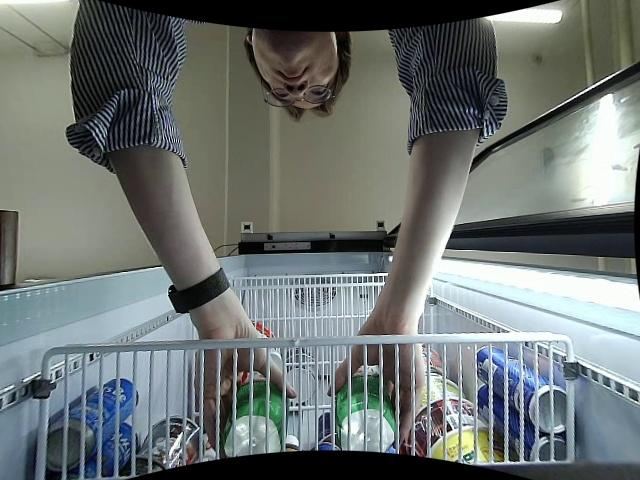00_hand: (193, 331, 296, 450), (328, 321, 426, 444)
18_trevi: (217, 352, 289, 454), (337, 372, 397, 454)
